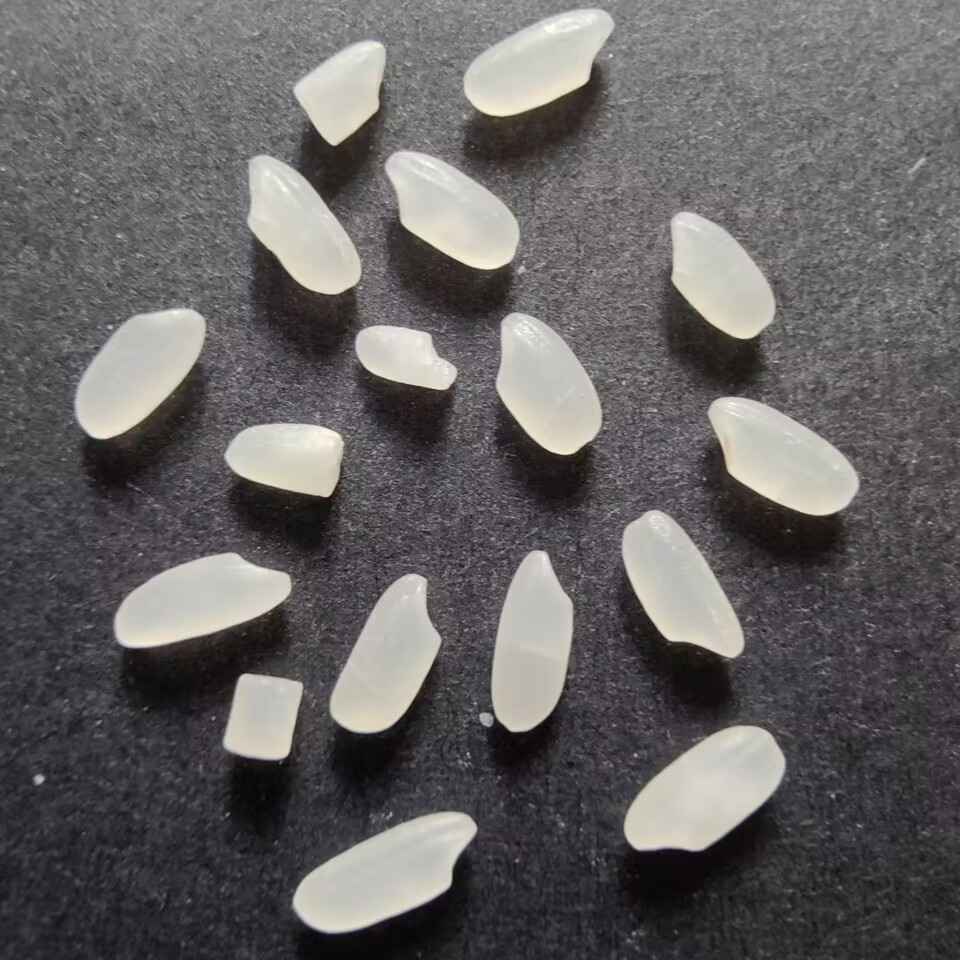broken: (287, 35, 392, 149), (216, 423, 344, 499), (218, 670, 306, 766), (348, 323, 459, 392)
rice: (288, 807, 478, 935), (616, 719, 788, 854), (617, 504, 747, 661), (108, 547, 296, 654), (323, 570, 444, 736), (704, 394, 861, 519), (70, 305, 209, 445), (239, 151, 365, 301), (487, 544, 582, 735), (378, 149, 523, 274), (461, 6, 617, 119), (490, 310, 604, 457), (664, 208, 777, 341)
